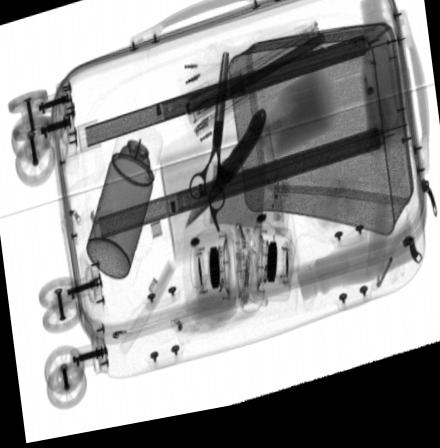Knife: (184, 119, 266, 238)
Powerbank: (202, 167, 290, 249)
Scissors: (188, 60, 230, 242)
Sprayer: (86, 117, 162, 284)
